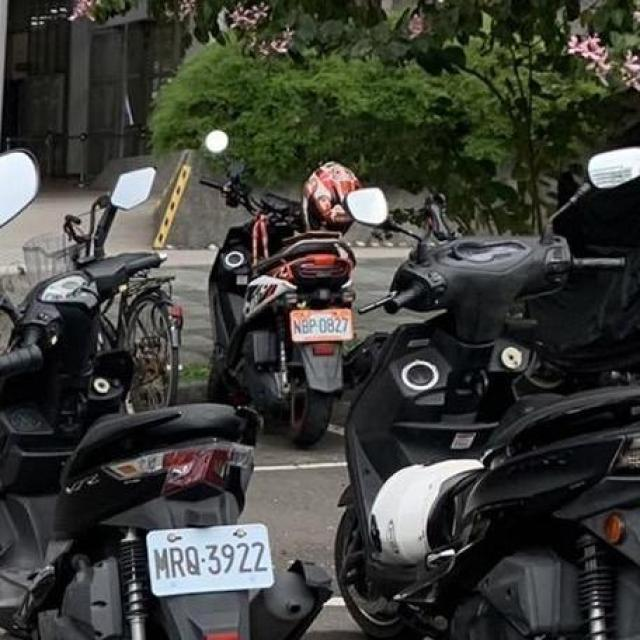W: (142, 519, 278, 598), (282, 302, 361, 346)
